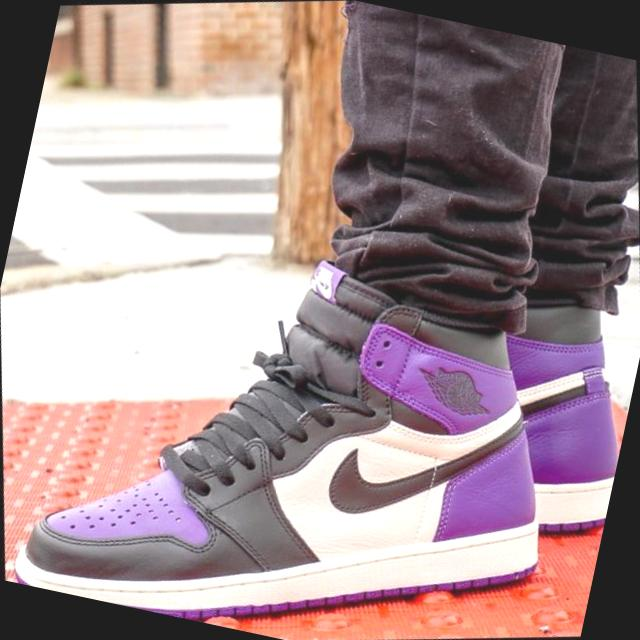nike_original_jordan: (0, 117, 634, 640)
